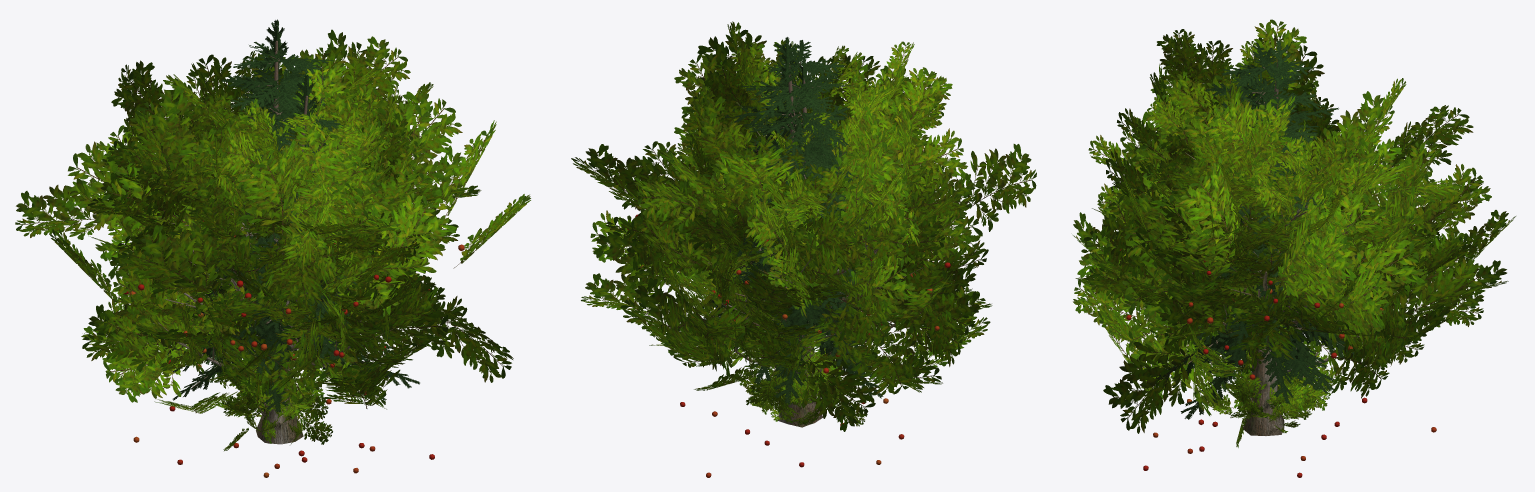
The model's file is trees.glb.
The picture shows the model from 3 angles, left to right: view 1: azimuth 30°, elevation 25°; view 2: azimuth 150°, elevation 25°; view 3: azimuth 270°, elevation 25°; orthographic projection. The views are drawn at different scales.
Parts seen in each view (by area): view 1: oak_b_lod0, apple_a_lod0, apple_b_lod0, oak_a_lod0, beech_a_lod0, oak_c_lod0, pine_b_lod0, pine_a_lod0, bush_a_lod0, beech_b_lod0, pine_c_lod0, bush_b_lod0; view 2: oak_a_lod0, apple_b_lod0, oak_b_lod0, apple_a_lod0, oak_c_lod0, beech_a_lod0, pine_b_lod0, pine_a_lod0, beech_b_lod0, pine_c_lod0, bush_a_lod0, bush_b_lod0; view 3: apple_b_lod0, oak_b_lod0, oak_a_lod0, apple_a_lod0, oak_c_lod0, beech_a_lod0, pine_b_lod0, beech_b_lod0, pine_a_lod0, pine_c_lod0, bush_a_lod0, bush_b_lod0.
Part boxes in pixels (x1=…): oak_b_lod0: x1=15, y1=29, x2=513, y2=444; apple_a_lod0: x1=81, y1=54, x2=459, y2=477; apple_b_lod0: x1=50, y1=91, x2=530, y2=473; oak_a_lod0: x1=84, y1=47, x2=430, y2=417; beech_a_lod0: x1=112, y1=85, x2=420, y2=406; oak_c_lod0: x1=145, y1=36, x2=433, y2=415; pine_b_lod0: x1=167, y1=19, x2=370, y2=371; pine_a_lod0: x1=172, y1=74, x2=396, y2=374; bush_a_lod0: x1=214, y1=353, x2=332, y2=444; beech_b_lod0: x1=175, y1=53, x2=393, y2=262; pine_c_lod0: x1=172, y1=112, x2=419, y2=412; bush_b_lod0: x1=221, y1=373, x2=320, y2=450; oak_a_lod0: x1=637, y1=39, x2=979, y2=427; apple_b_lod0: x1=581, y1=29, x2=990, y2=477; oak_b_lod0: x1=571, y1=54, x2=1036, y2=427; apple_a_lod0: x1=649, y1=84, x2=992, y2=467; oak_c_lod0: x1=659, y1=21, x2=967, y2=280; beech_a_lod0: x1=688, y1=41, x2=950, y2=267; pine_b_lod0: x1=712, y1=37, x2=903, y2=371; pine_a_lod0: x1=678, y1=56, x2=888, y2=384; beech_b_lod0: x1=698, y1=42, x2=900, y2=279; pine_c_lod0: x1=678, y1=117, x2=899, y2=404; bush_a_lod0: x1=746, y1=347, x2=843, y2=424; bush_b_lod0: x1=739, y1=360, x2=867, y2=426; apple_b_lod0: x1=1073, y1=77, x2=1515, y2=477; oak_b_lod0: x1=1089, y1=40, x2=1469, y2=435; oak_a_lod0: x1=1116, y1=33, x2=1491, y2=406; apple_a_lod0: x1=1073, y1=78, x2=1427, y2=460; oak_c_lod0: x1=1097, y1=19, x2=1392, y2=407; beech_a_lod0: x1=1088, y1=29, x2=1367, y2=268; pine_b_lod0: x1=1189, y1=40, x2=1359, y2=370; beech_b_lod0: x1=1159, y1=71, x2=1371, y2=266; pine_a_lod0: x1=1148, y1=78, x2=1364, y2=404; pine_c_lod0: x1=1151, y1=151, x2=1358, y2=419; bush_a_lod0: x1=1212, y1=342, x2=1341, y2=447; bush_b_lod0: x1=1208, y1=358, x2=1314, y2=432.
Size of what is drawn, in the model's own units: 6.86 by 6.74 by 6.9.
Materials: 5 (4 with a texture image).
